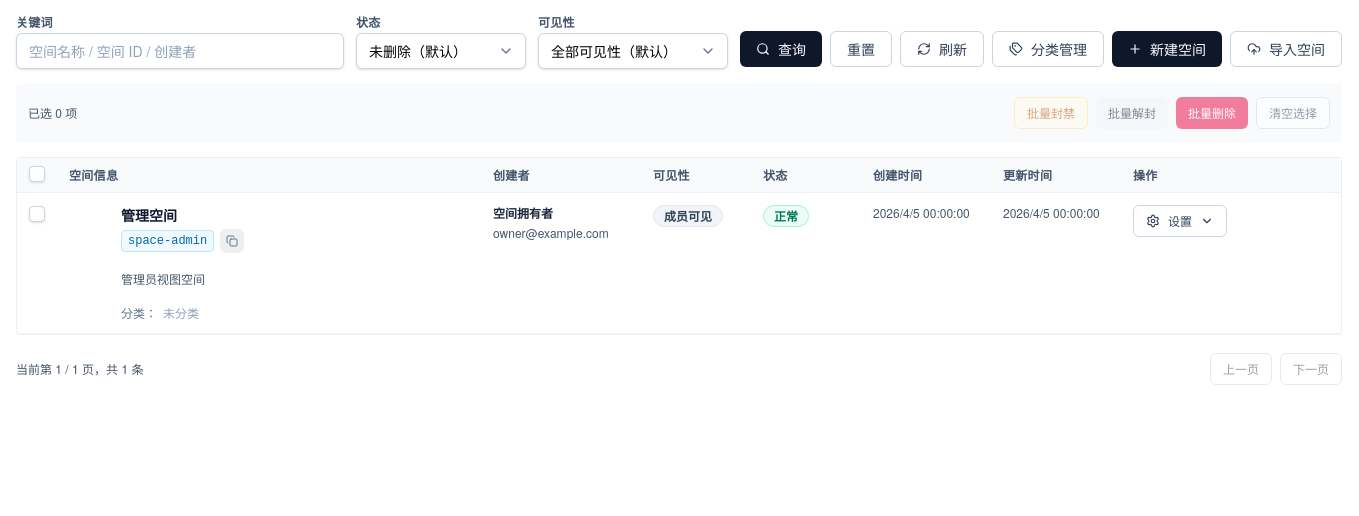
Test: AdminSpacesPage › keeps admin actions in the settings menu for admin mode
The image size is (1359, 516).
expect the button "编辑文档" is not shown: met
Click the button with aria-label "展开更多操作": (1180, 221) [1133,205,1227,237]
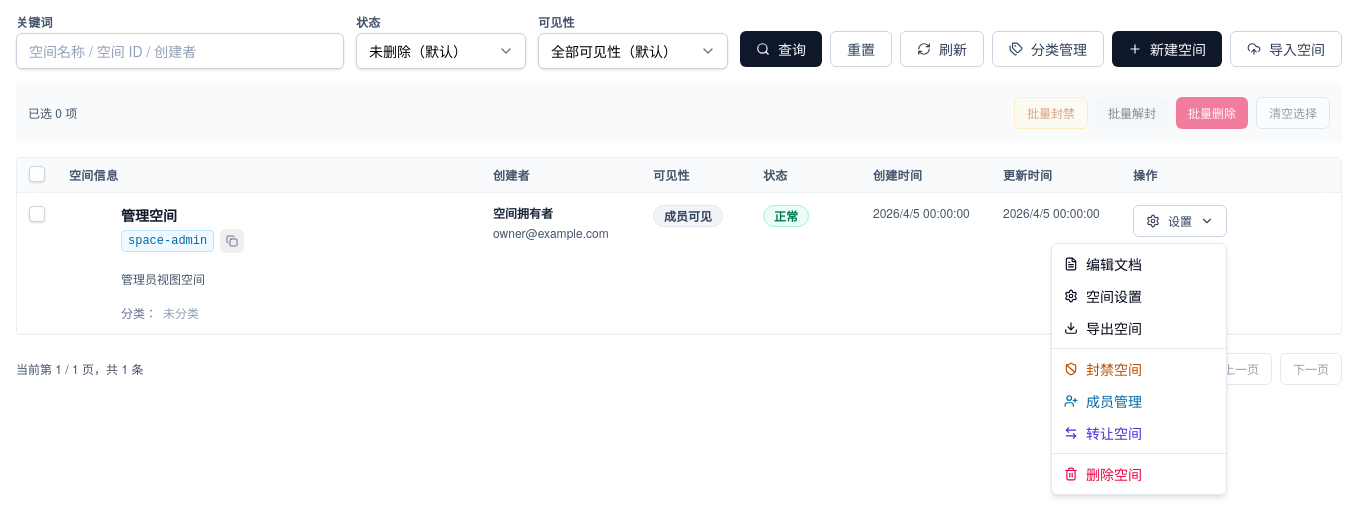
expect the text "编辑文档" is shown: met, box [1086,254,1142,274]
expect the text "空间设置" is shown: met, box [1086,286,1142,306]
expect the text "导出空间" is shown: met, box [1086,318,1142,338]
